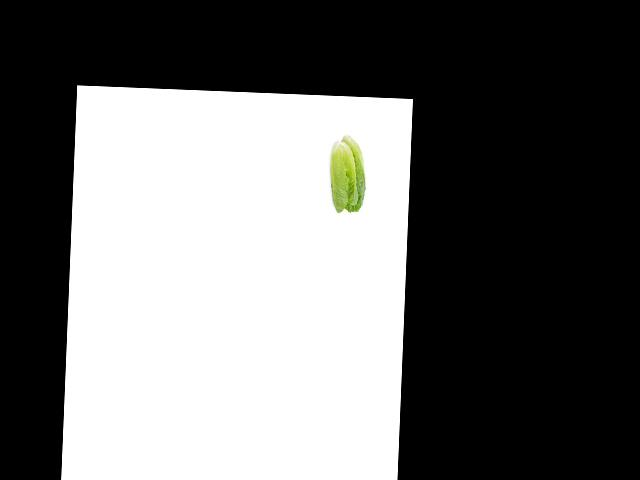lettuce: (323, 135, 367, 214)
